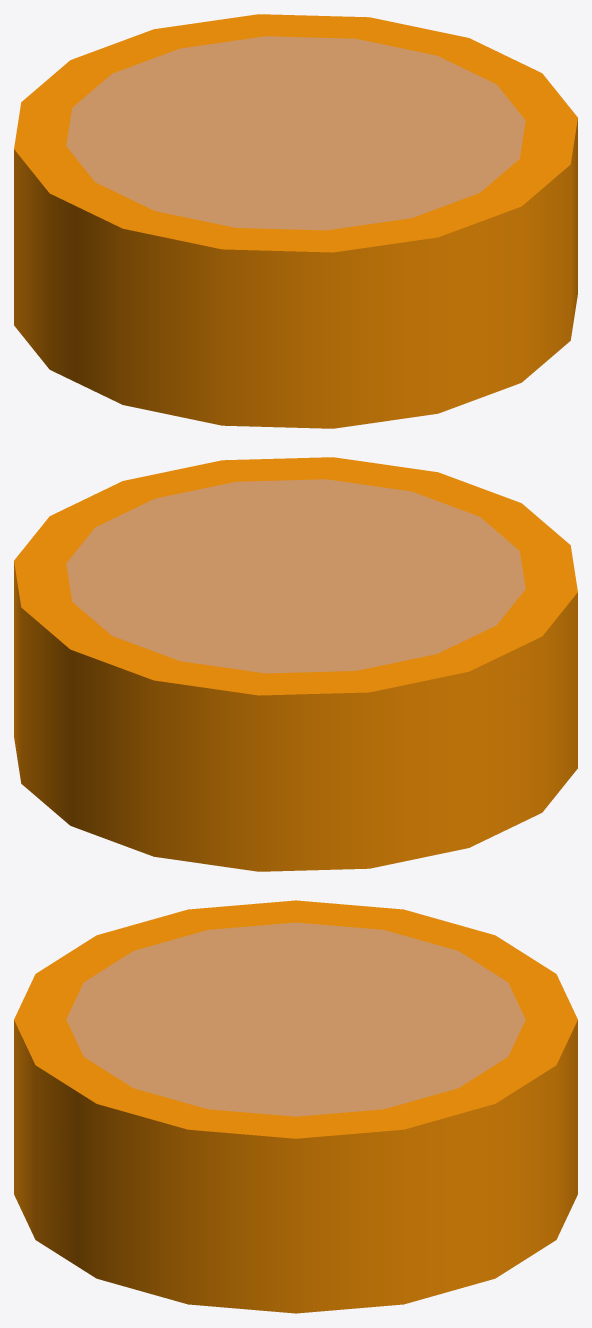
File: CarrotSlice.fbx
3 renders of one model, top to bottom at view 1: azimuth 30°, elevation 25°; view 2: azimuth 150°, elevation 25°; view 3: azimuth 270°, elevation 25°, orthographic.
Parts seen in each view (by area): view 1: CarrotSlice; view 2: CarrotSlice; view 3: CarrotSlice.
Part boxes in pixels (box(x1,y1,x2,y2)): CarrotSlice: box(14, 14, 577, 428); CarrotSlice: box(14, 457, 577, 871); CarrotSlice: box(14, 900, 577, 1313).
Bounding box in the file's own units: 23.7 × 8.1 × 23.7.
